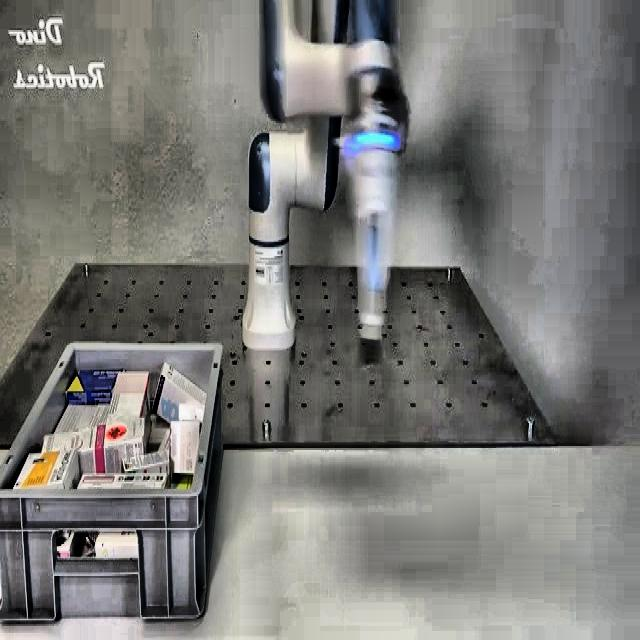robot: (242, 0, 411, 363)
